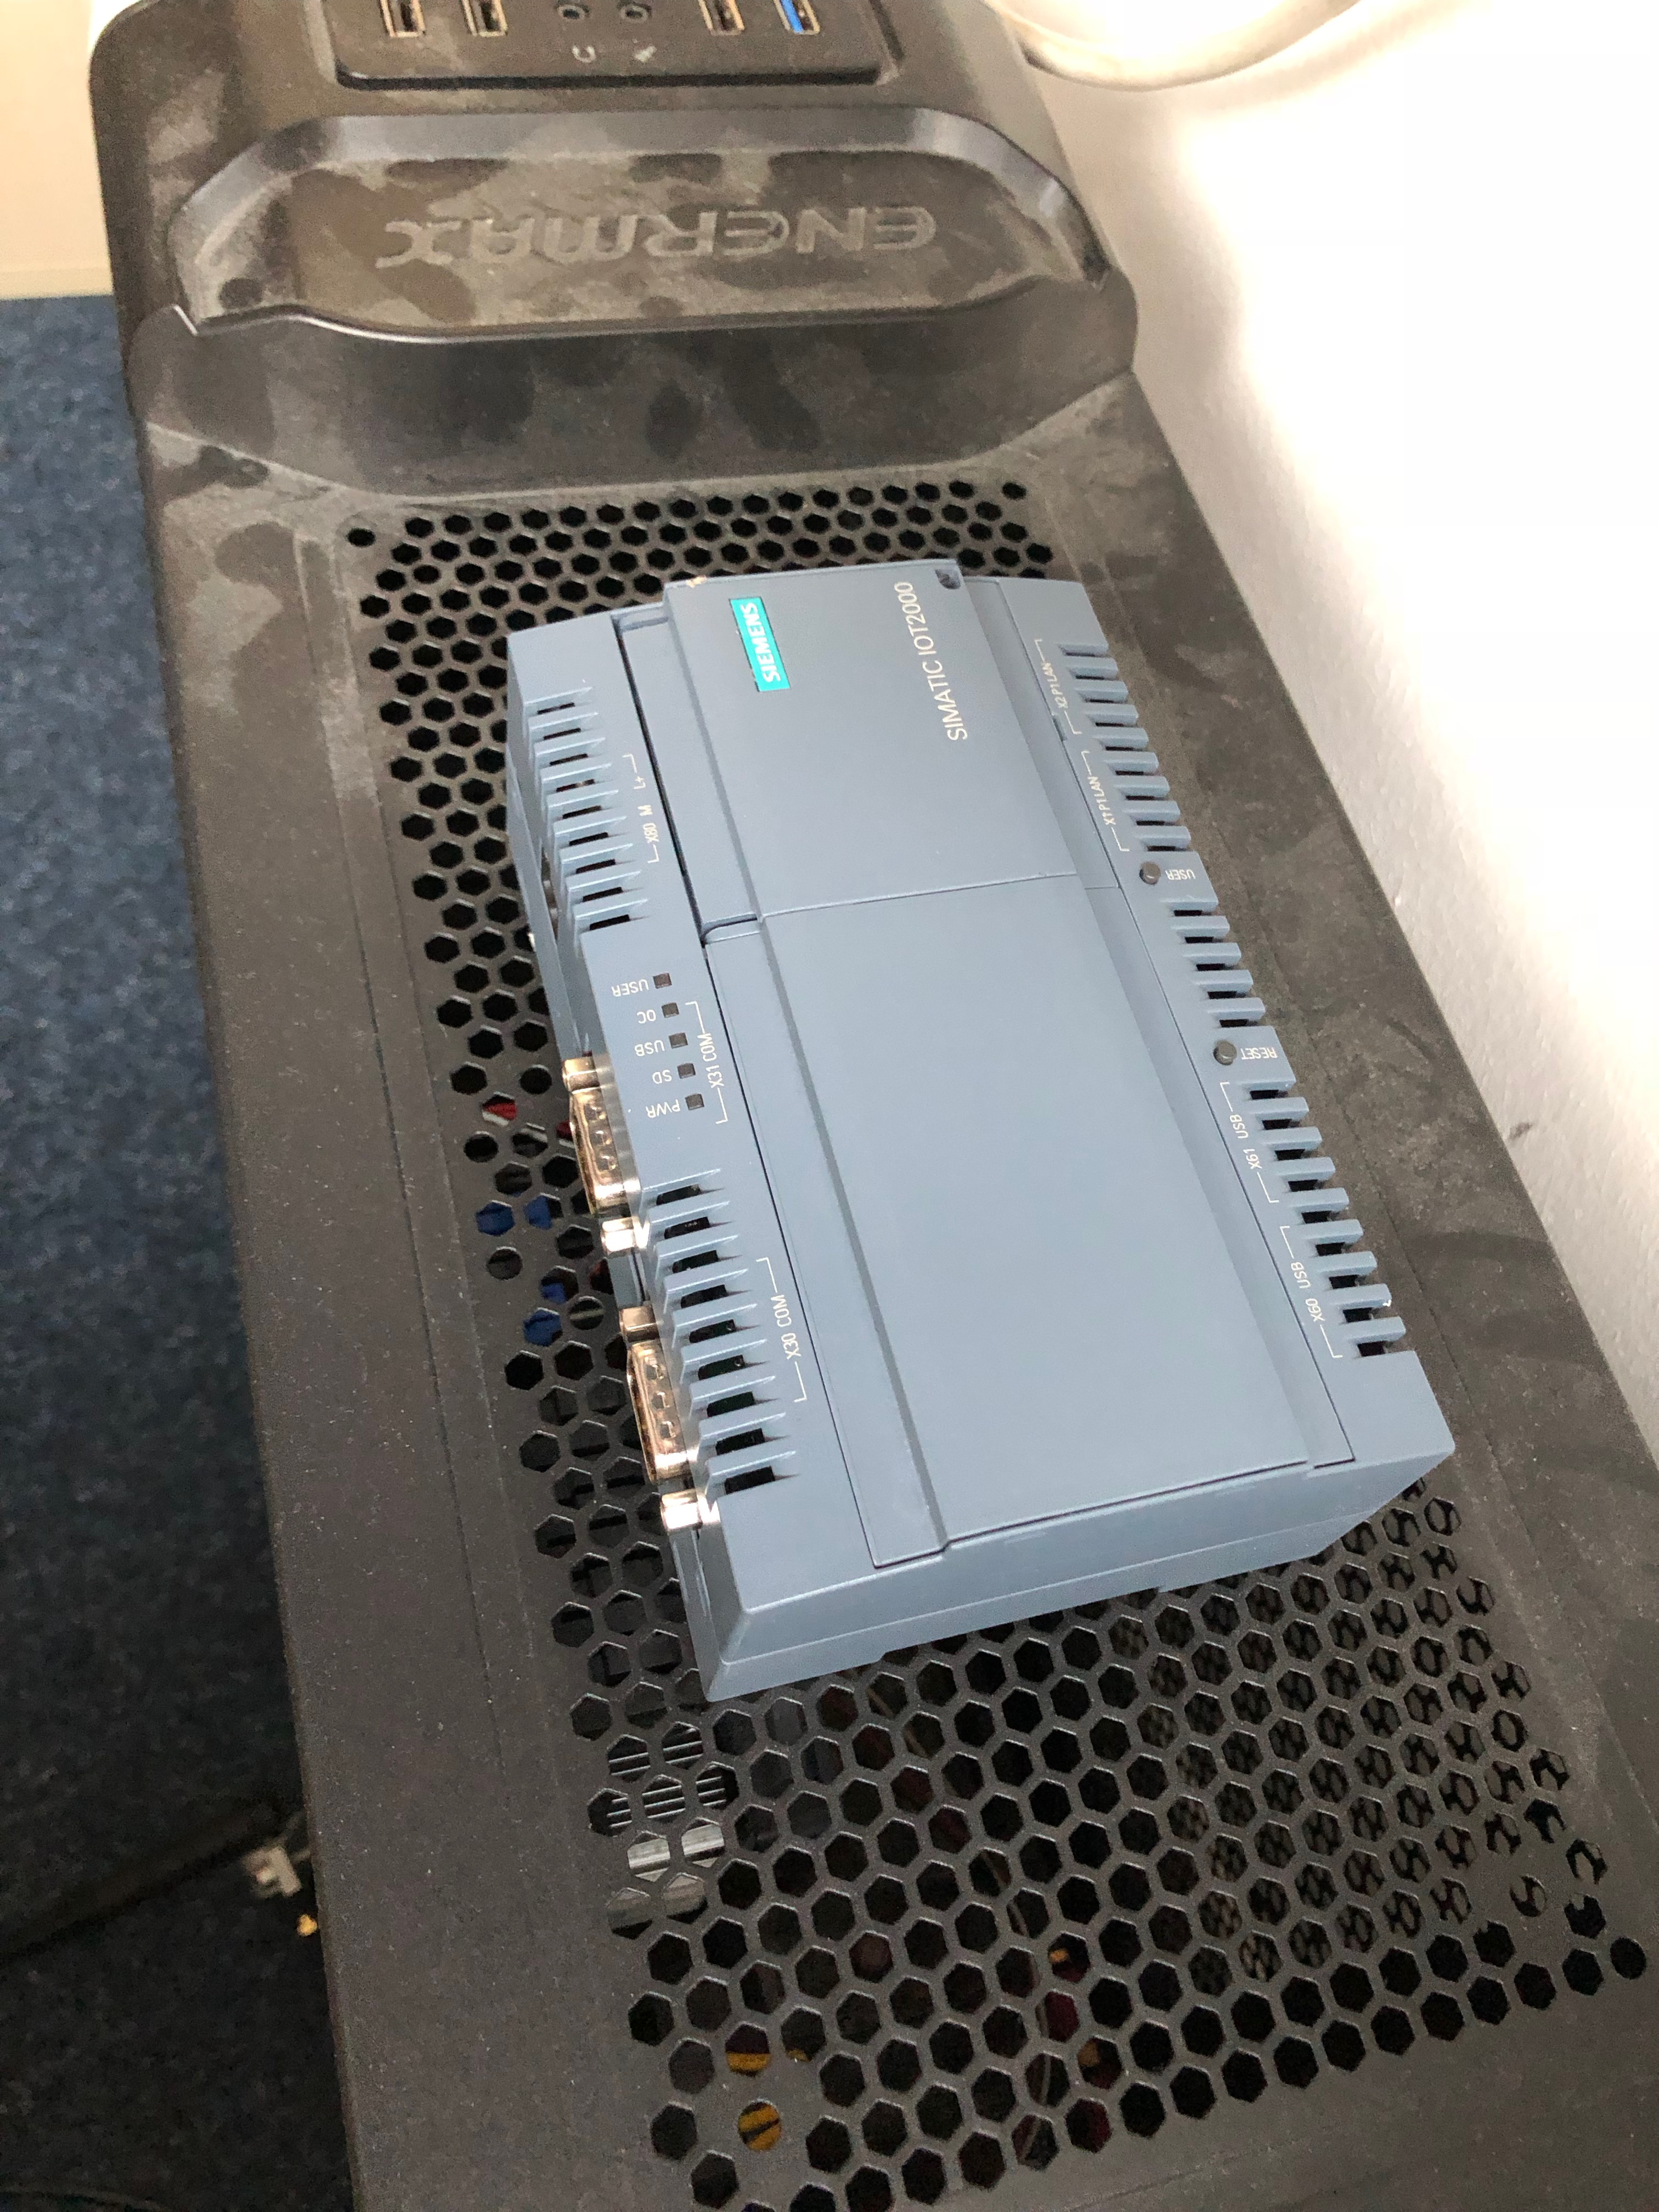device: (505, 559, 1457, 1703)
